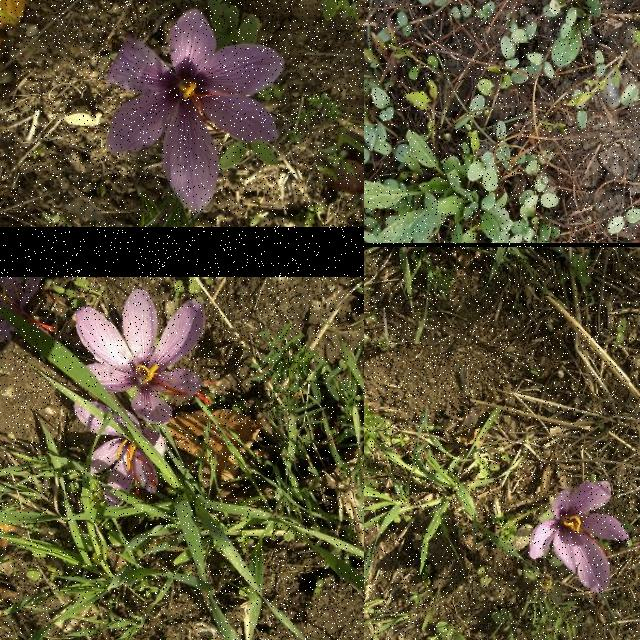flower: (105, 9, 285, 215), (76, 291, 212, 424), (528, 482, 630, 594), (74, 401, 166, 507), (0, 277, 56, 342)
